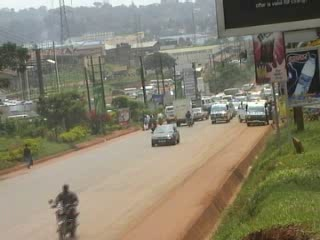Car: (150, 124, 180, 147), (191, 104, 209, 121)
Motorcycle: (47, 182, 83, 237), (183, 109, 195, 129), (148, 113, 157, 134), (156, 109, 164, 127)
